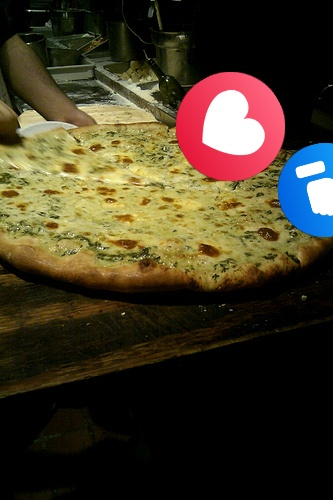like: (278, 143, 333, 237)
love: (176, 72, 285, 181)
